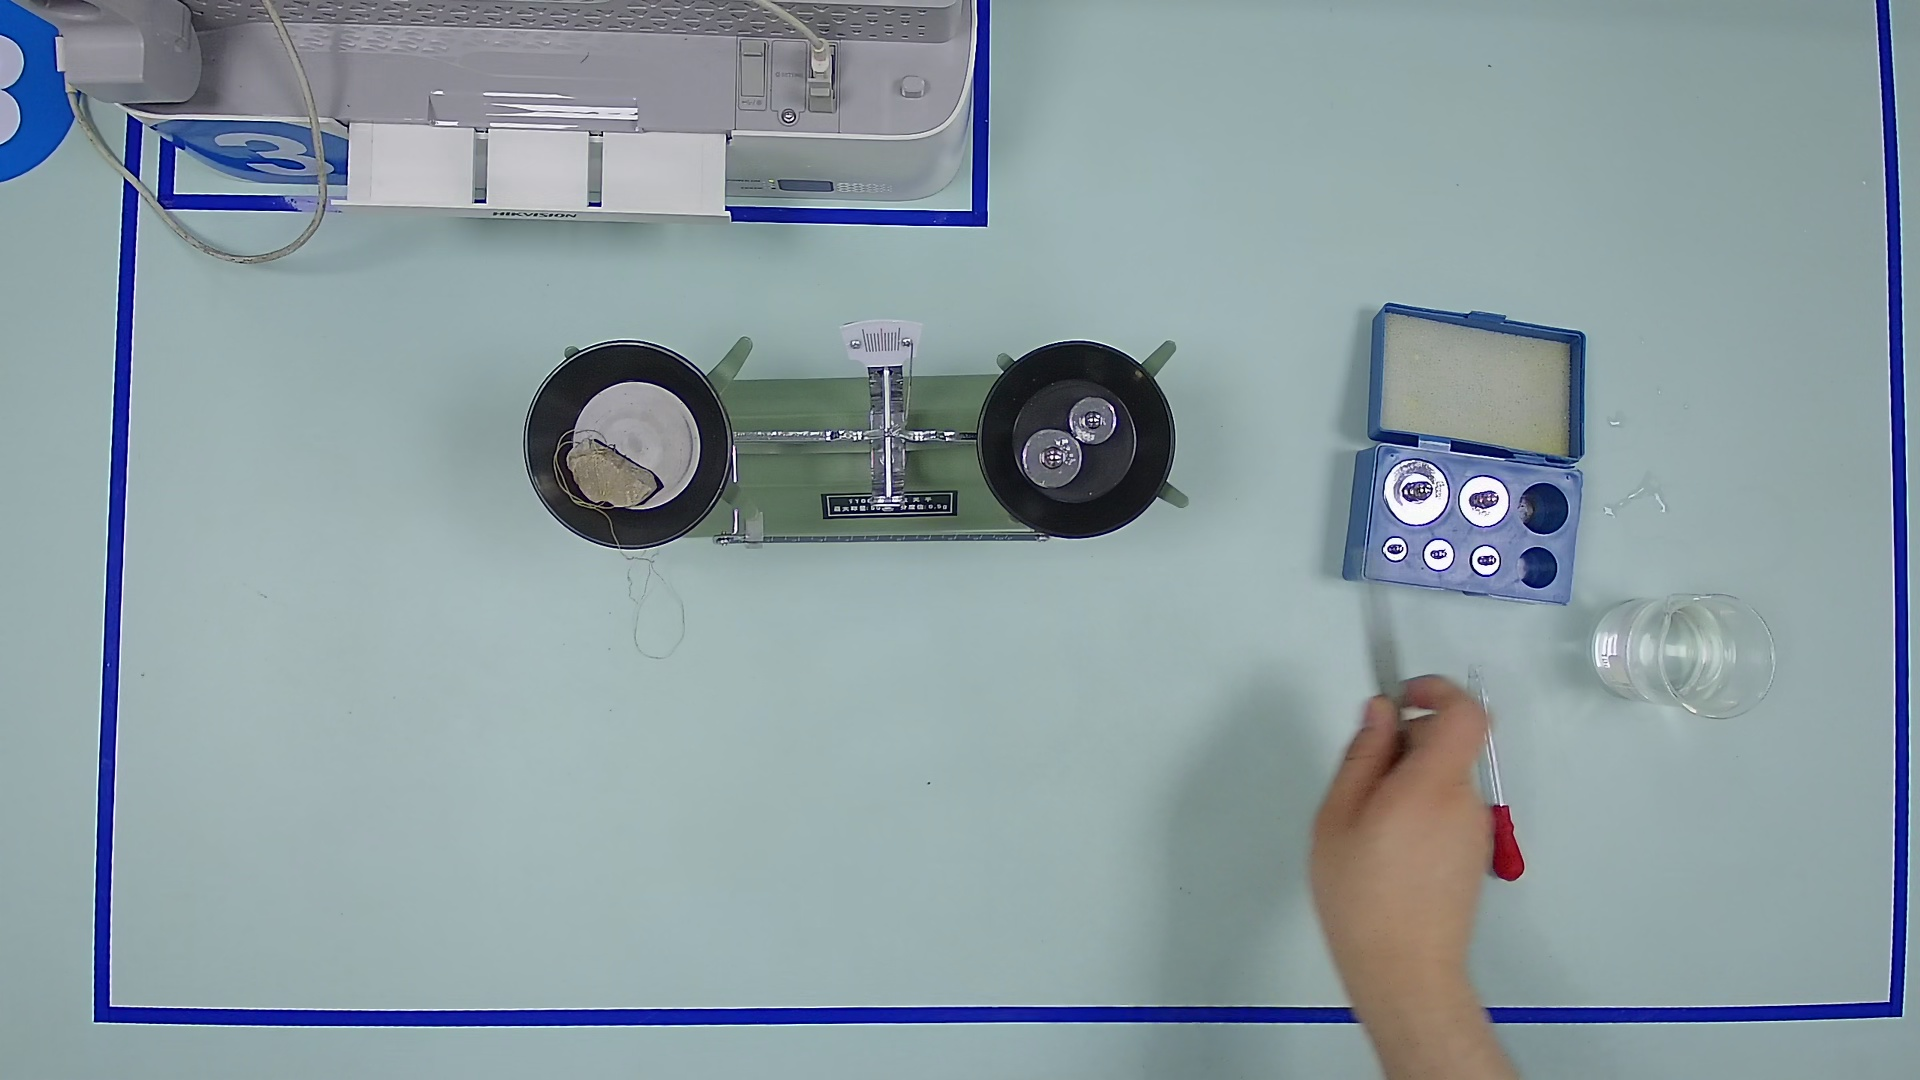bei: (1580, 574, 1772, 729)
diguan: (1465, 659, 1526, 887)
diguantou: (1474, 798, 1534, 886)
fama: (1379, 454, 1452, 527), (1017, 425, 1085, 495), (1458, 473, 1513, 529), (1065, 394, 1120, 448), (1468, 543, 1505, 583), (1422, 537, 1455, 572), (1379, 533, 1408, 563)
gan: (711, 502, 1034, 572)
hand: (1273, 669, 1531, 961)
he: (1335, 411, 1600, 618)
pointer: (843, 319, 919, 364)
shi: (567, 433, 661, 516)
tuo: (502, 320, 754, 572), (955, 316, 1199, 564)
you: (738, 510, 771, 553)
